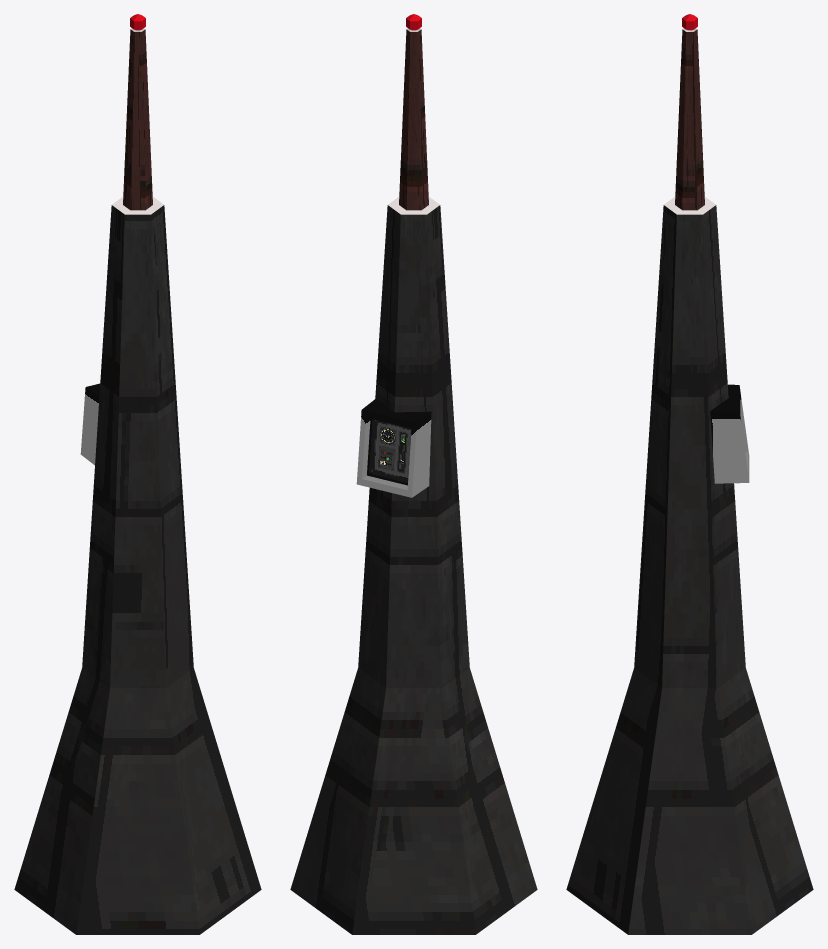
The model's file is guidetower.gltf.
3 renders of one model, left to right at view 1: azimuth 30°, elevation 25°; view 2: azimuth 150°, elevation 25°; view 3: azimuth 270°, elevation 25°, orthographic.
Parts seen in each view (by area): view 1: waylight, terminal; view 2: waylight, terminal; view 3: waylight, terminal.
Part boxes in pixels (x1,y1,x2,y2): waylight: (14,28,261,934); terminal: (80,383,100,465); waylight: (290,28,537,934); terminal: (356,398,431,497); waylight: (566,28,813,934); terminal: (710,384,749,483).
Bounding box in the file's own units: 0.6127 × 2.77 × 0.7075.
Materials: 3 (2 with a texture image).
